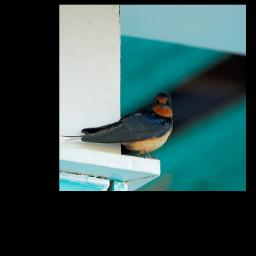Swallow: (61, 88, 176, 158)
